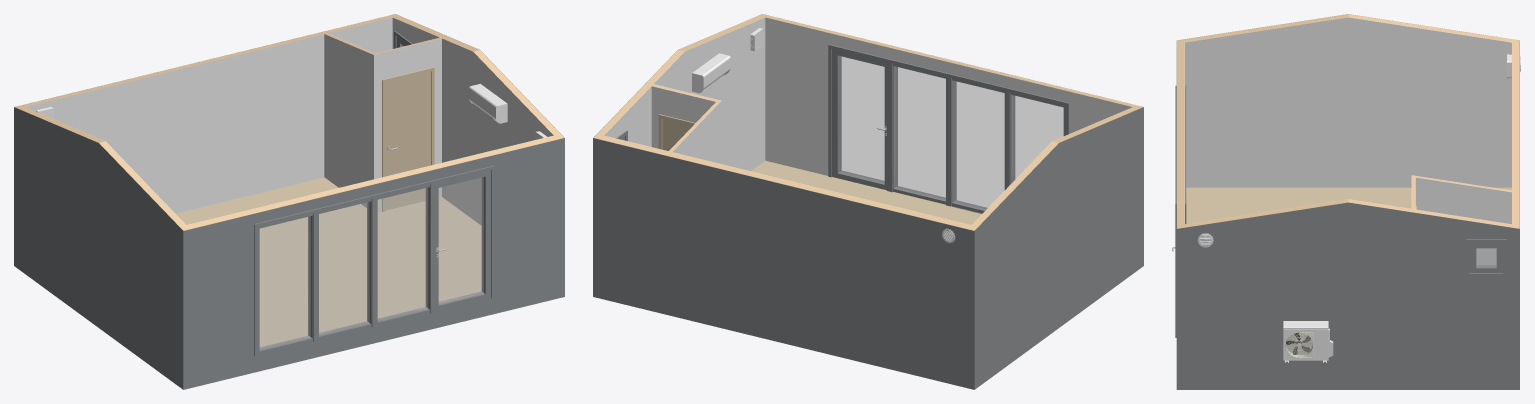
Rendered from medziosandelis.eu_(5,0 x 6,5)_R02.fbx.
3 renders of one model, left to right at view 1: azimuth 30°, elevation 25°; view 2: azimuth 150°, elevation 25°; view 3: azimuth 270°, elevation 25°, orthographic.
Visible parts, largest first — view 1: IfcWall/Part:2663462, IfcWall/Part:2663454, IfcWall/Part:2663460, IfcSlab/Part:2663543, IfcWall/Part:2663456, IfcDoor/Durys išorinės:1000x2100x120 (dešininės):2732387, IfcWindow/Langai (Akrusta):1000x2100x120:2727360, IfcWindow/Langai (Akrusta):1000x2100x120:2732892, IfcWindow/Langai (Akrusta):1000x2100x120:2732932, IfcWall/Part:2679602, IfcDoor/Durys vidinės:800x2100 x 120 (dešininės):2663563, IfcWall/Part:2663506 (+5 smaller); view 2: IfcWall/Part:2663463, IfcWall/Part:2663460, IfcWall/Part:2663453, IfcWall/Part:2663456, IfcDoor/Durys išorinės:1000x2100x120 (dešininės):2732387, IfcWindow/Langai (Akrusta):1000x2100x120:2727360, IfcWindow/Langai (Akrusta):1000x2100x120:2732932, IfcWindow/Langai (Akrusta):1000x2100x120:2732892, IfcSlab/Part:2663543, IfcWall/Part:2663464, IfcWall/Part:2663507, IfcWall/Part:2679602 (+5 smaller); view 3: IfcWall/Part:2663457, IfcWall/Part:2663459, IfcSlab/Part:2663543, IfcWall/Part:2679603, IfcBuildingElementProxy/Toshiba_Air_Handling_Unit_-_Inverter, IfcWindow/Langai (Akrusta):500x500x120 (varstomas):2710636, IfcWall/Part:2663464, IfcWall/Part:2663455, IfcWall/Part:2663461, IfcWall/Part:2663458, IfcDoor/Durys išorinės:1000x2100x120 (dešininės):2732387, IfcWall/Part:2663454 (+1 smaller).
Boxes of the visible parts, x1,y1,x2,y2 form: IfcWall/Part:2663462: (25,17,392,213); IfcWall/Part:2663454: (183,138,564,389); IfcWall/Part:2663460: (14,107,183,389); IfcSlab/Part:2663543: (176,177,481,347); IfcWall/Part:2663456: (392,17,553,225); IfcDoor/Durys išorinės:1000x2100x120 (dešininės):2732387: (425,165,494,313); IfcWindow/Langai (Akrusta):1000x2100x120:2727360: (367,180,436,327); IfcWindow/Langai (Akrusta):1000x2100x120:2732892: (254,208,318,356); IfcWindow/Langai (Akrusta):1000x2100x120:2732932: (308,195,377,341); IfcWall/Part:2679602: (324,34,373,207); IfcDoor/Durys vidinės:800x2100 x 120 (dešininės):2663563: (382,67,434,211); IfcWall/Part:2663506: (373,38,441,212); IfcWall/Part:2663463: (593,138,974,389); IfcWall/Part:2663460: (974,107,1143,389); IfcWall/Part:2663453: (765,17,1132,213); IfcWall/Part:2663456: (604,17,765,171); IfcDoor/Durys išorinės:1000x2100x120 (dešininės):2732387: (828,44,897,192); IfcWindow/Langai (Akrusta):1000x2100x120:2727360: (887,59,956,206); IfcWindow/Langai (Akrusta):1000x2100x120:2732932: (946,74,1015,213); IfcWindow/Langai (Akrusta):1000x2100x120:2732892: (1004,87,1069,190); IfcSlab/Part:2663543: (751,160,981,224); IfcWall/Part:2663464: (594,134,977,230); IfcWall/Part:2663507: (651,86,715,148); IfcWall/Part:2679602: (672,101,721,163); IfcWall/Part:2663457: (1177,202,1519,389); IfcWall/Part:2663459: (1185,17,1511,187); IfcSlab/Part:2663543: (1186,187,1511,223); IfcWall/Part:2679603: (1415,177,1511,264); IfcBuildingElementProxy/Toshiba_Air_Handling_Unit_-_Inverter: (1283,321,1333,362); IfcWindow/Langai (Akrusta):500x500x120 (varstomas):2710636: (1466,239,1506,276); IfcWall/Part:2663464: (1512,39,1519,228); IfcWall/Part:2663455: (1177,39,1184,228); IfcWall/Part:2663461: (1184,14,1511,42); IfcWall/Part:2663458: (1184,199,1511,227); IfcDoor/Durys išorinės:1000x2100x120 (dešininės):2732387: (1175,172,1186,337); IfcWall/Part:2663454: (1176,40,1176,389).
Bounding box in the file's own units: 680 × 301 × 507.
